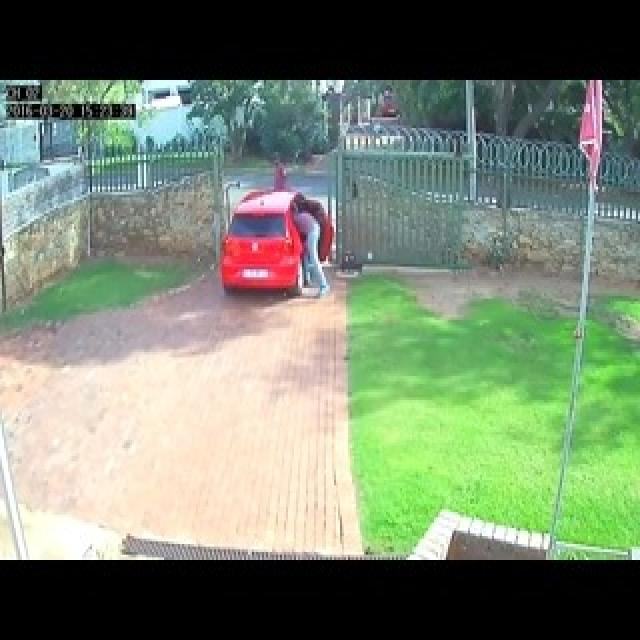thief: (280, 194, 330, 293), (259, 148, 300, 194)
